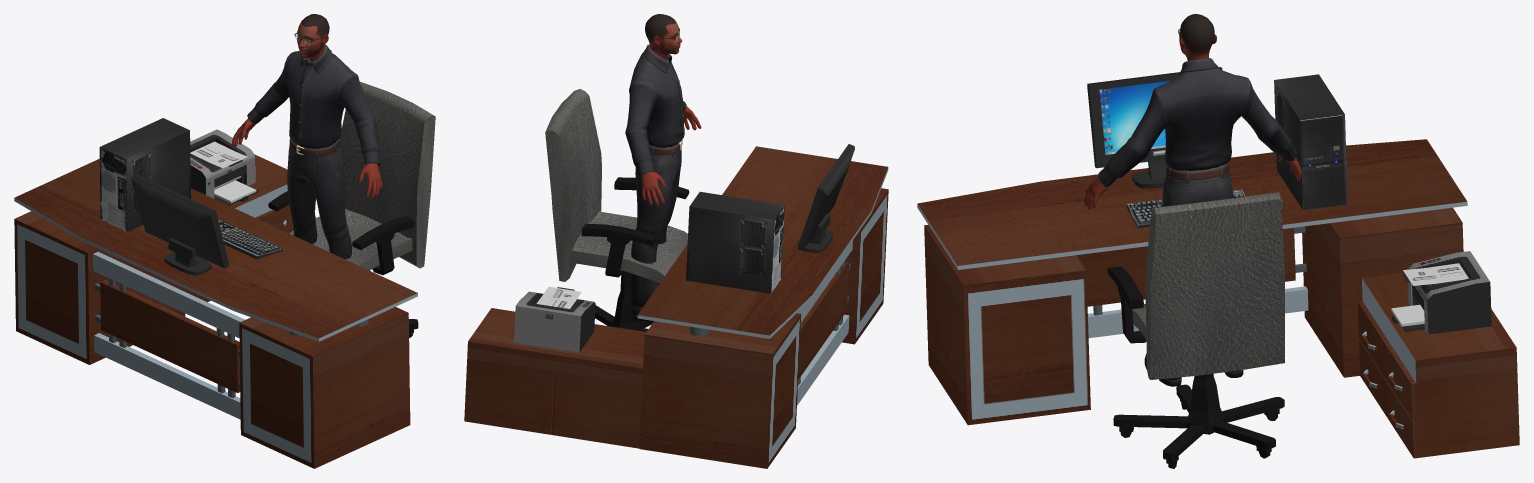
The model's file is office4.glb.
The picture shows the model from 3 angles, left to right: view 1: azimuth 30°, elevation 25°; view 2: azimuth 150°, elevation 25°; view 3: azimuth 270°, elevation 25°; orthographic projection. The views are drawn at different scales.
Visible parts, largest first — view 1: MaterialFBXASC032FBXASC0353.017, MaterialFBXASC032FBXASC0353, MaterialFBXASC032FBXASC0353.028, MaterialFBXASC032FBXASC03538.003, Wolf3D_Outfit_Top.001, MaterialFBXASC032FBXASC0353.002, MaterialFBXASC032FBXASC0354_ncl1_1.002, MaterialFBXASC032FBXASC0354, Wolf3D_Outfit_Bottom.001, MaterialFBXASC032FBXASC0352, MaterialFBXASC032FBXASC0353.003, MaterialFBXASC032FBXASC0353.001 (+6 smaller); view 2: MaterialFBXASC032FBXASC0353.028, MaterialFBXASC032FBXASC0353.023, MaterialFBXASC032FBXASC0353.017, MaterialFBXASC032FBXASC0354_ncl1_1.002, MaterialFBXASC032FBXASC03538.003, Wolf3D_Outfit_Top.001, MaterialFBXASC032FBXASC0352, MaterialFBXASC032FBXASC0353, Wolf3D_Outfit_Bottom.001, MaterialFBXASC032FBXASC03538, MaterialFBXASC032FBXASC0353.002, MaterialFBXASC032FBXASC0354 (+6 smaller); view 3: MaterialFBXASC032FBXASC0353.017, MaterialFBXASC032FBXASC0353, MaterialFBXASC032FBXASC03538.003, MaterialFBXASC032FBXASC0353.023, MaterialFBXASC032FBXASC0353.028, Wolf3D_Outfit_Top.001, MaterialFBXASC032FBXASC0354_ncl1_1.002, MaterialFBXASC032FBXASC0352, MaterialFBXASC032FBXASC03538.004, MaterialFBXASC032FBXASC0354, MaterialFBXASC032FBXASC0353.002, Wolf3D_Outfit_Bottom.001 (+5 smaller).
Boxes of the visible parts, <box> form: MaterialFBXASC032FBXASC0353.017: <box>14,159,417,341</box>; MaterialFBXASC032FBXASC0353: <box>239,307,410,468</box>; MaterialFBXASC032FBXASC0353.028: <box>14,211,185,364</box>; MaterialFBXASC032FBXASC03538.003: <box>339,82,435,268</box>; Wolf3D_Outfit_Top.001: <box>247,44,380,166</box>; MaterialFBXASC032FBXASC0353.002: <box>100,280,240,392</box>; MaterialFBXASC032FBXASC0354_ncl1_1.002: <box>99,118,190,231</box>; MaterialFBXASC032FBXASC0354: <box>131,174,229,275</box>; Wolf3D_Outfit_Bottom.001: <box>287,137,351,259</box>; MaterialFBXASC032FBXASC0352: <box>190,129,258,205</box>; MaterialFBXASC032FBXASC0353.003: <box>93,252,245,338</box>; MaterialFBXASC032FBXASC0353.001: <box>94,333,240,419</box>; MaterialFBXASC032FBXASC0353.028: <box>639,313,801,468</box>; MaterialFBXASC032FBXASC0353.023: <box>464,308,646,448</box>; MaterialFBXASC032FBXASC0353.017: <box>637,146,888,338</box>; MaterialFBXASC032FBXASC0354_ncl1_1.002: <box>686,191,784,293</box>; MaterialFBXASC032FBXASC03538.003: <box>545,89,601,281</box>; Wolf3D_Outfit_Top.001: <box>625,44,686,177</box>; MaterialFBXASC032FBXASC0352: <box>514,286,595,352</box>; MaterialFBXASC032FBXASC0353: <box>842,188,888,344</box>; Wolf3D_Outfit_Bottom.001: <box>630,140,682,307</box>; MaterialFBXASC032FBXASC03538: <box>571,211,687,283</box>; MaterialFBXASC032FBXASC0353.002: <box>798,261,848,379</box>; MaterialFBXASC032FBXASC0354: <box>797,144,854,253</box>; MaterialFBXASC032FBXASC0353.017: <box>917,139,1467,269</box>; MaterialFBXASC032FBXASC0353: <box>924,225,1090,425</box>; MaterialFBXASC032FBXASC03538.003: <box>1145,192,1284,379</box>; MaterialFBXASC032FBXASC0353.023: <box>1357,272,1519,458</box>; MaterialFBXASC032FBXASC0353.028: <box>1302,207,1463,377</box>; Wolf3D_Outfit_Top.001: <box>1098,58,1296,186</box>; MaterialFBXASC032FBXASC0354_ncl1_1.002: <box>1274,74,1347,210</box>; MaterialFBXASC032FBXASC0352: <box>1391,251,1491,334</box>; MaterialFBXASC032FBXASC03538.004: <box>1113,374,1284,468</box>; MaterialFBXASC032FBXASC0354: <box>1087,67,1222,188</box>; MaterialFBXASC032FBXASC0353.002: <box>1077,227,1295,306</box>; Wolf3D_Outfit_Bottom.001: <box>1162,162,1233,206</box>.
Bounding box in the file's own units: 2.02 × 2.14 × 2.82.
Materials: 13 (13 with a texture image).
